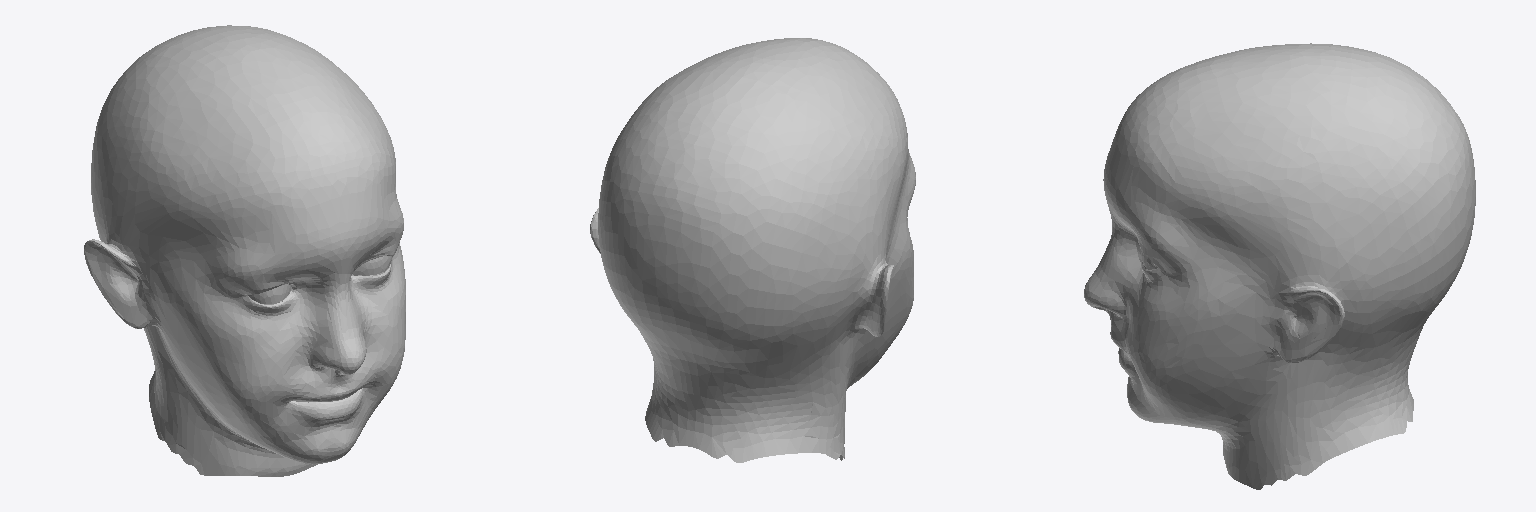
File: connor.obj
The picture shows the model from 3 angles: view 1: azimuth 30°, elevation 25°; view 2: azimuth 150°, elevation 25°; view 3: azimuth 270°, elevation 25°; orthographic projection.
Parts seen in each view (by area): view 1: FaceBuilderHead_FaceBuilderHead_mesh; view 2: FaceBuilderHead_FaceBuilderHead_mesh; view 3: FaceBuilderHead_FaceBuilderHead_mesh.
Boxes of the visible parts, box(x1,y1,x2,y2) form: FaceBuilderHead_FaceBuilderHead_mesh: box(84, 25, 405, 476); FaceBuilderHead_FaceBuilderHead_mesh: box(590, 38, 915, 462); FaceBuilderHead_FaceBuilderHead_mesh: box(1084, 43, 1475, 489).
Bounding box in the file's own units: 1.55 × 2.03 × 1.79.